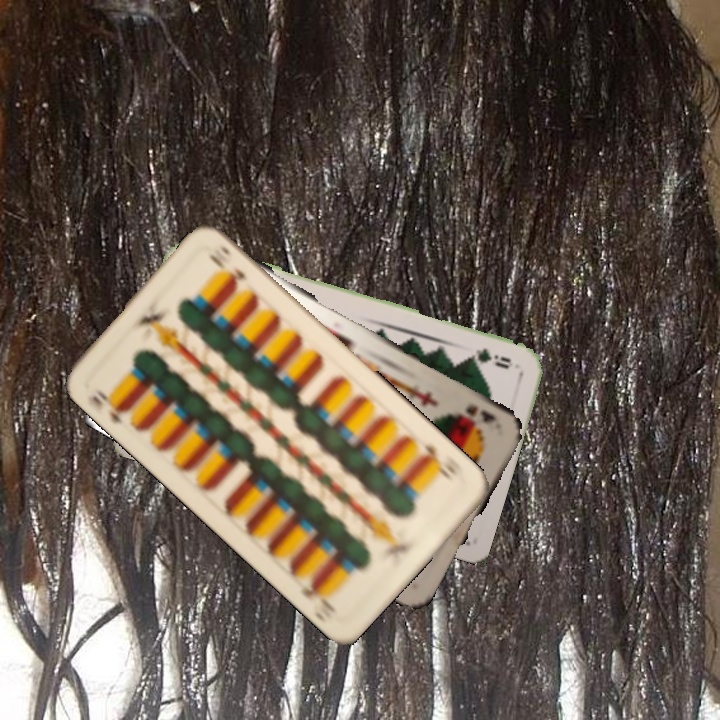E10: (88, 385, 132, 428), (415, 440, 457, 483)
G9: (463, 344, 514, 372)
SK: (462, 400, 500, 425)
